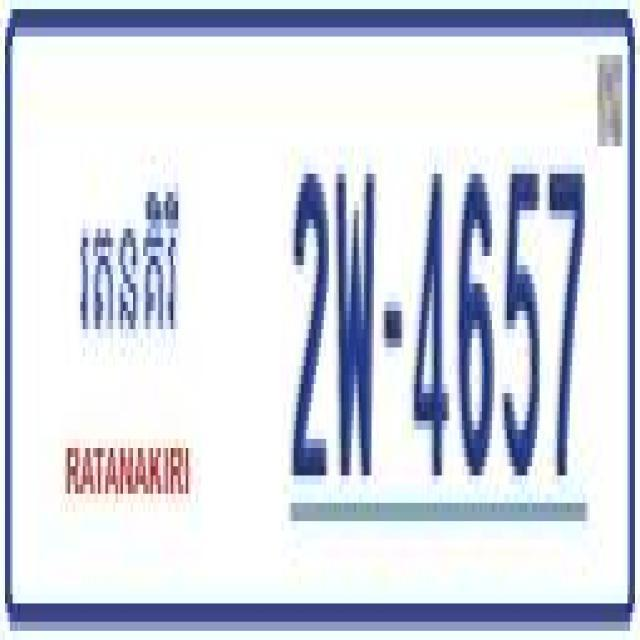Ratanakiri: (75, 165, 186, 350)
